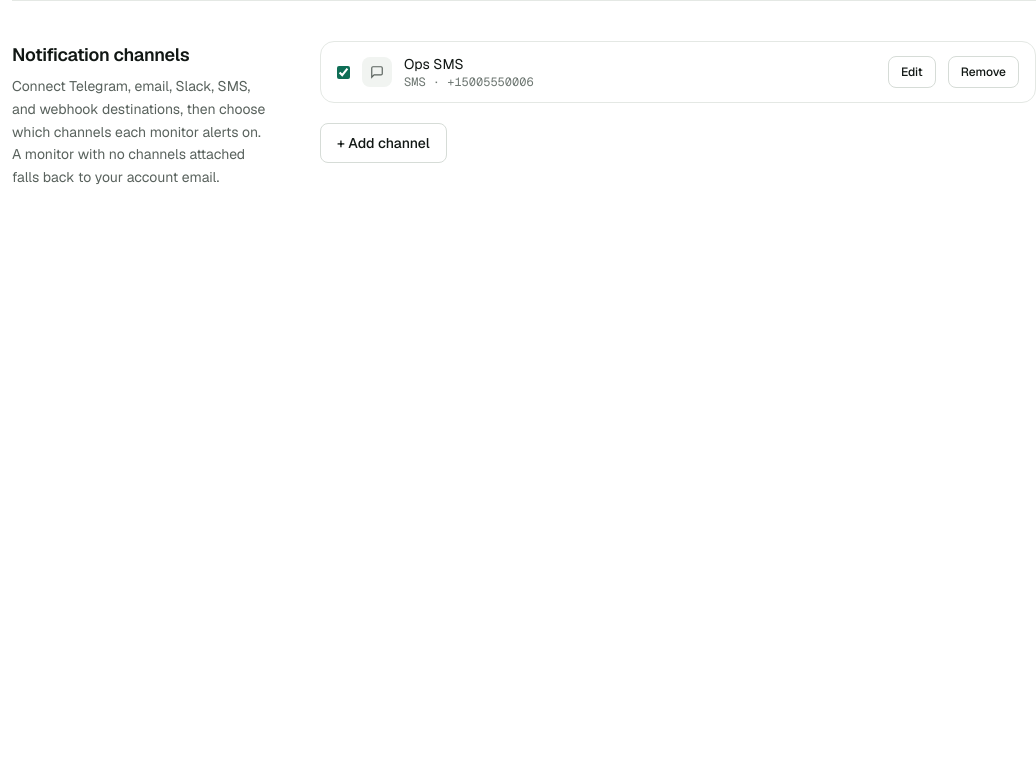
Test: NotificationChannelsCard › re-requires consent when the phone number is edited away from the one on file
Click the button "Edit" at {"x": 912, "y": 72}, box left=888, top=56, right=936, bottom=88
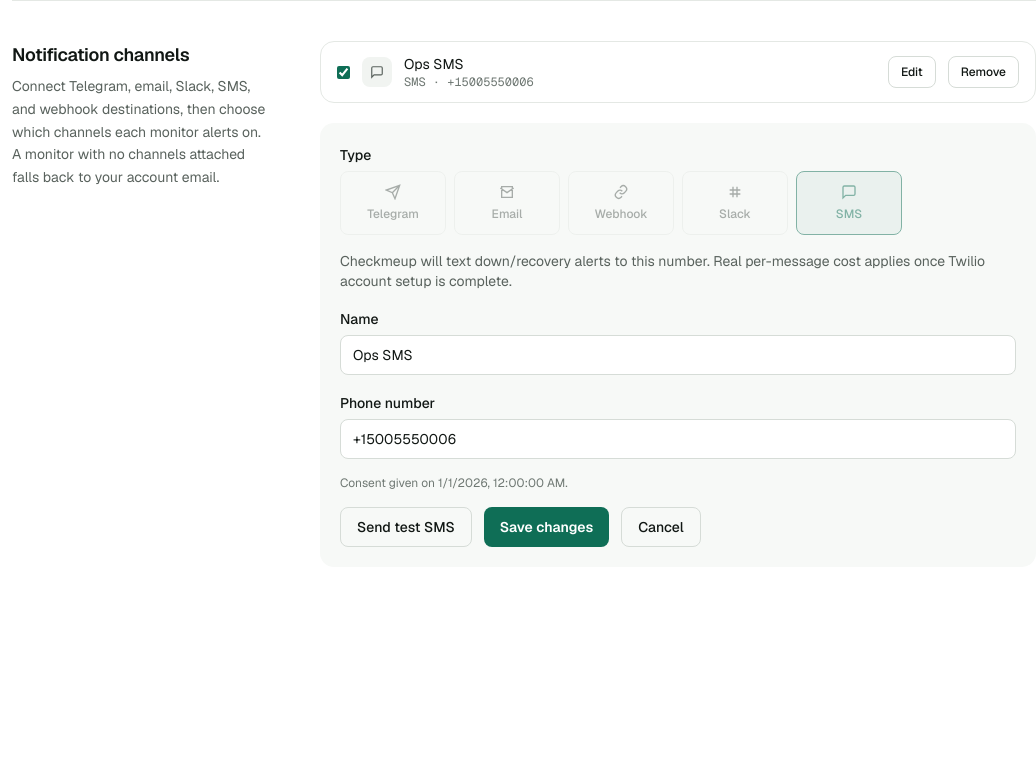
Result: the text "Consent given on" is shown at left=340, top=475, right=568, bottom=491
Replace the text in the field with id "channel-value" with "+15005550001" at {"x": 678, "y": 439}, box left=340, top=419, right=1016, bottom=459
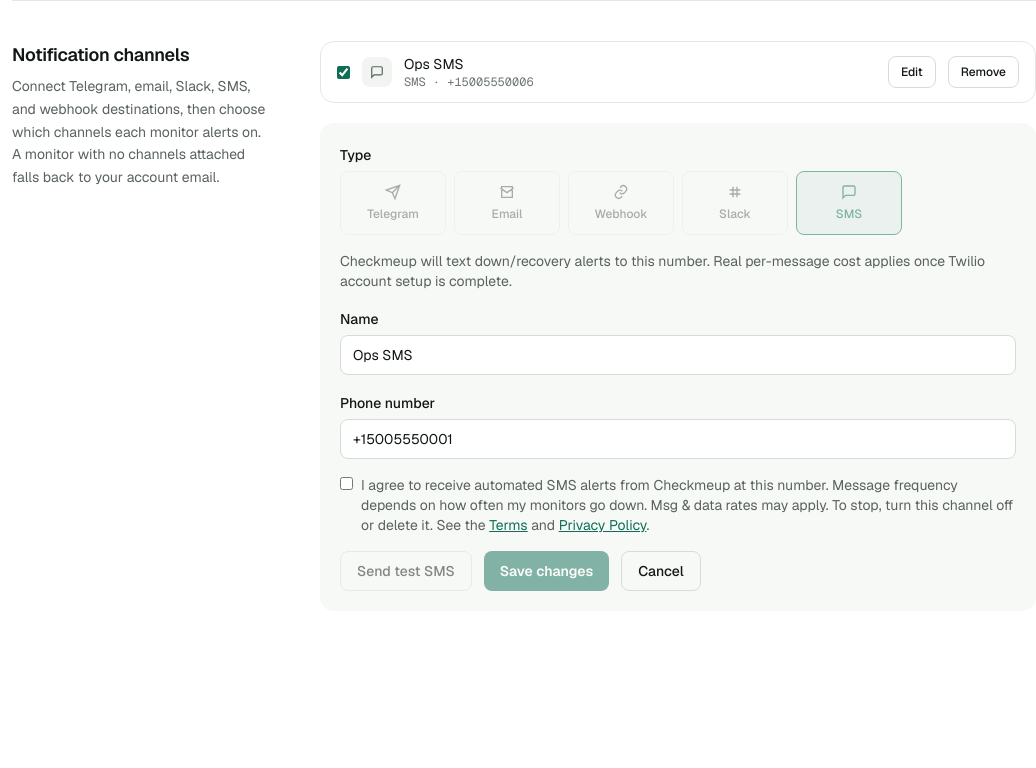
Result: the text "Consent given on" is gone
Result: the 2nd checkbox is shown at left=340, top=477, right=353, bottom=490
Result: the button "Save changes" is disabled at left=484, top=551, right=609, bottom=591
